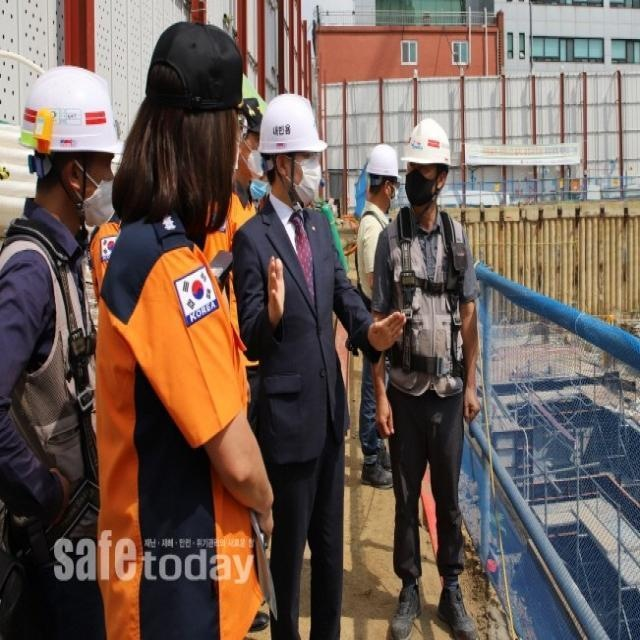Arnes_seguridad: (381, 215, 476, 441)
